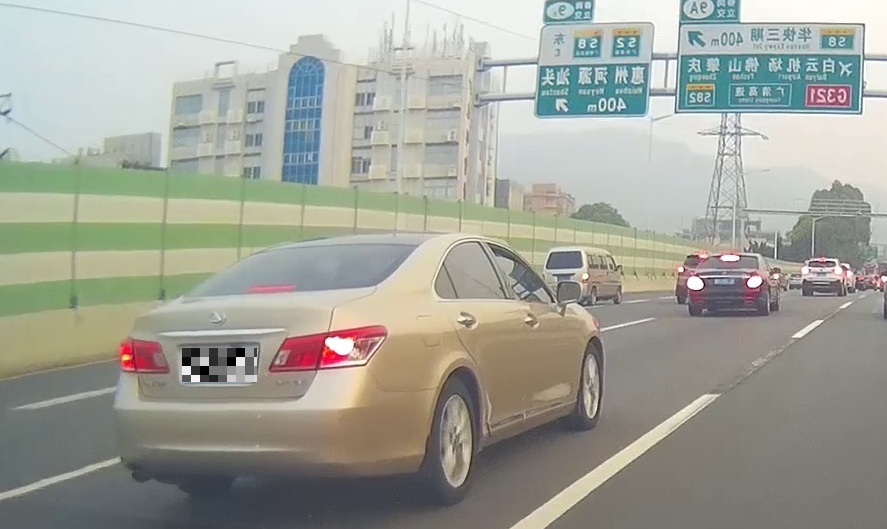L_light: (118, 337, 170, 372), (689, 276, 704, 291), (802, 267, 810, 275)
R_light: (268, 324, 390, 373), (746, 276, 763, 288), (834, 267, 842, 275)
T_light: (247, 284, 296, 294), (720, 255, 740, 261), (818, 259, 826, 262)
day-brake: (112, 233, 419, 498), (688, 252, 764, 316), (802, 258, 842, 296)
plate_1: (182, 348, 257, 382)
